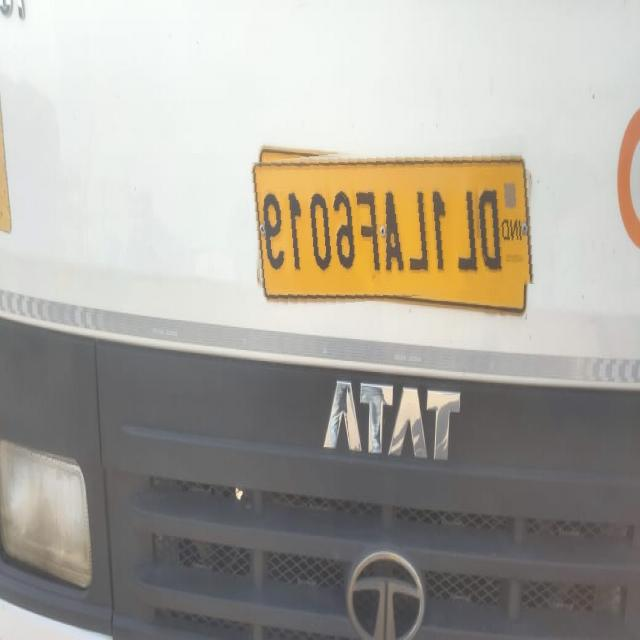License-plate: (250, 142, 539, 306)
